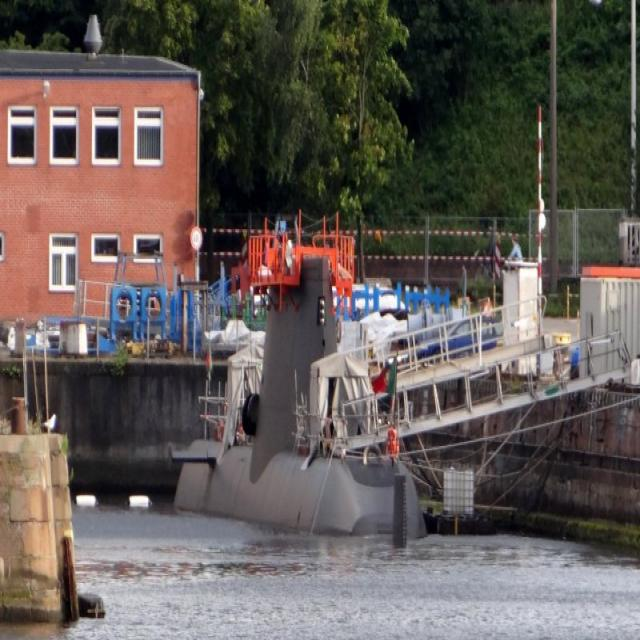submarine: (170, 260, 431, 539)
